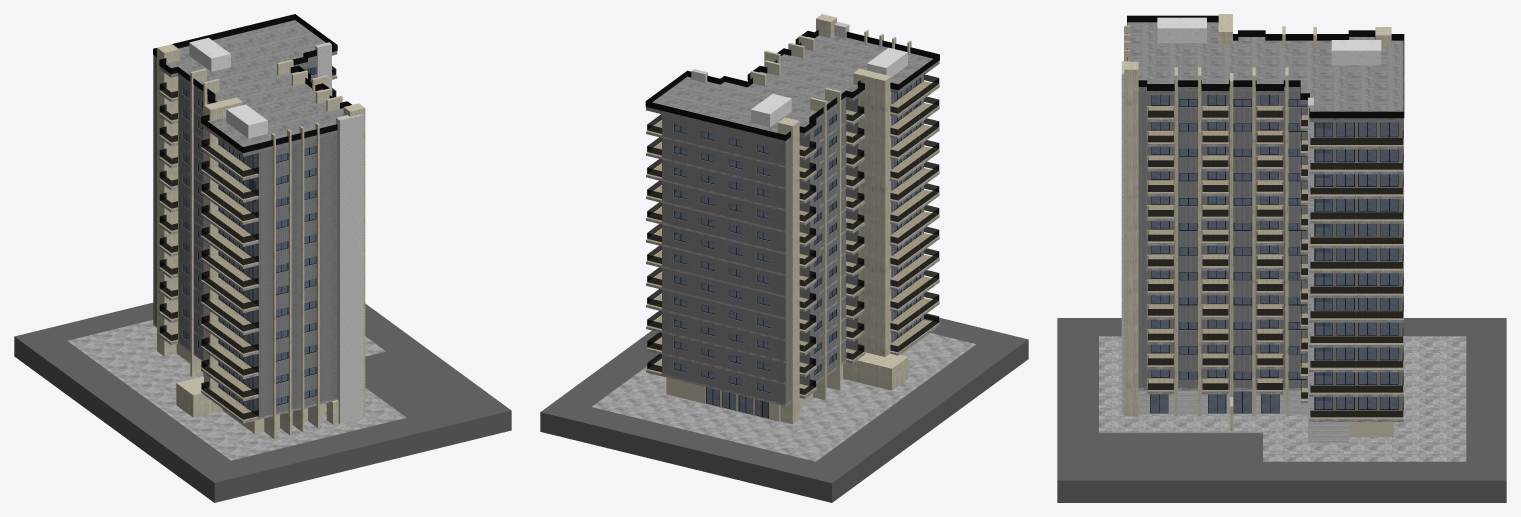
File: tower.glb
3 views of the same model, side by side, from view 1: azimuth 30°, elevation 25°; view 2: azimuth 150°, elevation 25°; view 3: azimuth 270°, elevation 25° (orthographic). The views are drawn at different scales.
Parts seen in each view (by area): view 1: Box001_Ceramic_0, Line003_05 - Default_0, Line001_13 - Brushed Metal #2_0, Line005_06 - Default_0, Line126_14 - Polished Aluminum_0, Box028_Wall Paint_0, Box414_11 - Default_0, Line007_04 - Default_0, Box002_03 - Default_0, Line125_Metal_0, Shape_02 - Default_0, Box422_12 - Car Paint_0; view 2: Line003_05 - Default_0, Line005_06 - Default_0, Box001_Ceramic_0, Line001_13 - Brushed Metal #2_0, Box028_Wall Paint_0, Line007_04 - Default_0, Line126_14 - Polished Aluminum_0, Box002_03 - Default_0, Line125_Metal_0, Shape_02 - Default_0, Box422_12 - Car Paint_0; view 3: Line005_06 - Default_0, Box001_Ceramic_0, Line003_05 - Default_0, Box028_Wall Paint_0, Box002_03 - Default_0, Line007_04 - Default_0, Line126_14 - Polished Aluminum_0, Line001_13 - Brushed Metal #2_0, Shape_02 - Default_0, Box414_11 - Default_0, Line125_Metal_0, Box422_12 - Car Paint_0.
Part boxes in pixels (x1,y1,x2,y2): Box001_Ceramic_0: (14,302,511,502); Line003_05 - Default_0: (153,58,337,417); Line001_13 - Brushed Metal #2_0: (157,44,365,438); Line005_06 - Default_0: (67,76,406,460); Line126_14 - Polished Aluminum_0: (153,20,343,156); Box028_Wall Paint_0: (159,73,336,421); Box414_11 - Default_0: (315,42,363,423); Line007_04 - Default_0: (159,66,336,419); Box002_03 - Default_0: (183,67,316,411); Line125_Metal_0: (153,14,351,152); Shape_02 - Default_0: (182,68,316,411); Box422_12 - Car Paint_0: (189,37,267,138); Line003_05 - Default_0: (662,75,923,404); Line005_06 - Default_0: (591,81,976,461); Box001_Ceramic_0: (540,315,1028,502); Line001_13 - Brushed Metal #2_0: (666,14,911,424); Box028_Wall Paint_0: (646,81,939,396); Line007_04 - Default_0: (647,74,939,394); Line126_14 - Polished Aluminum_0: (646,35,939,144); Box002_03 - Default_0: (674,78,920,417); Line125_Metal_0: (645,29,939,140); Shape_02 - Default_0: (674,78,920,418); Box422_12 - Car Paint_0: (751,47,907,126); Line005_06 - Default_0: (1099,95,1466,461); Box001_Ceramic_0: (1057,318,1506,502); Line003_05 - Default_0: (1138,90,1403,410); Box028_Wall Paint_0: (1147,106,1403,419); Box002_03 - Default_0: (1151,95,1397,413); Line007_04 - Default_0: (1147,107,1403,417); Line126_14 - Polished Aluminum_0: (1127,22,1403,122); Line001_13 - Brushed Metal #2_0: (1124,14,1393,437); Shape_02 - Default_0: (1150,95,1398,413); Box414_11 - Default_0: (1121,61,1349,442); Line125_Metal_0: (1127,15,1404,118); Box422_12 - Car Paint_0: (1157,17,1381,65).
Size of the model in its own units: 42.25 by 44.74 by 49.3.
13 materials, 7 textured.
